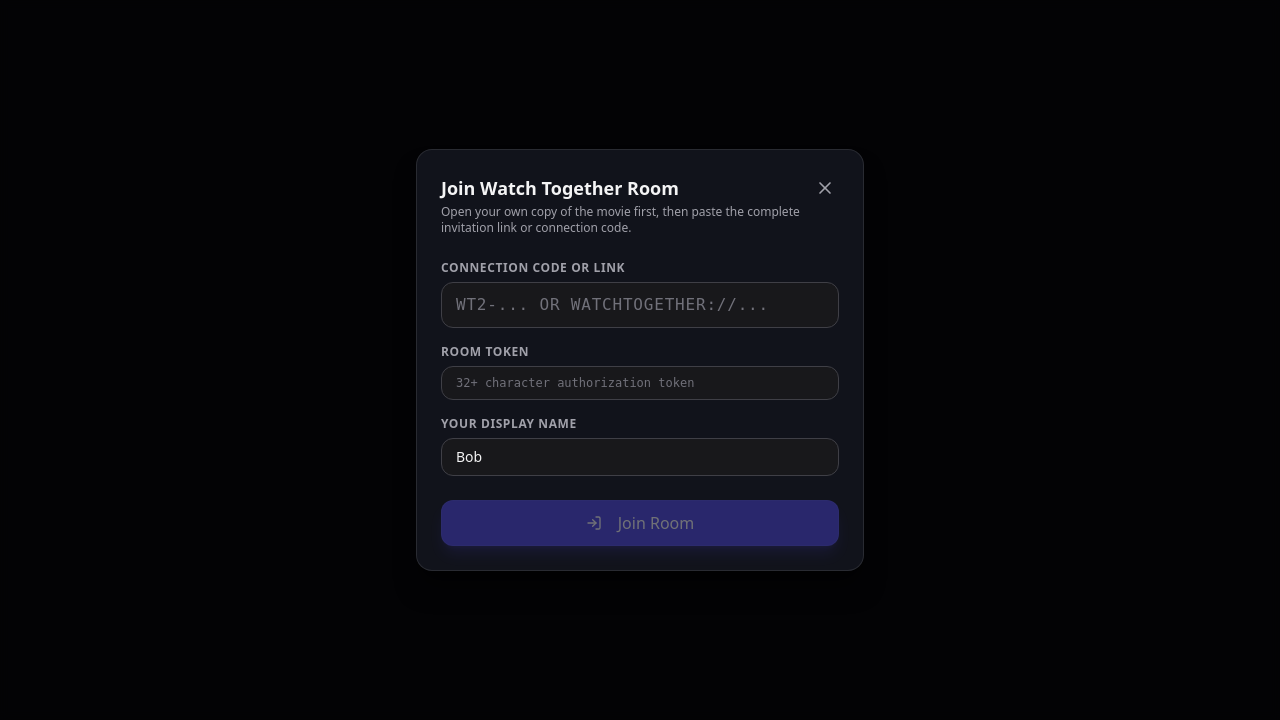
Test: Room Collaboration UI Modals › JoinRoomModal › rejects IP-based invitations from older versions with a clear message
Step 1. Type "WT1-eyJyb29tQ29kZSI6IksifQ" into the field with test id "room-code-input" → (640, 305), box [441,282,839,328]
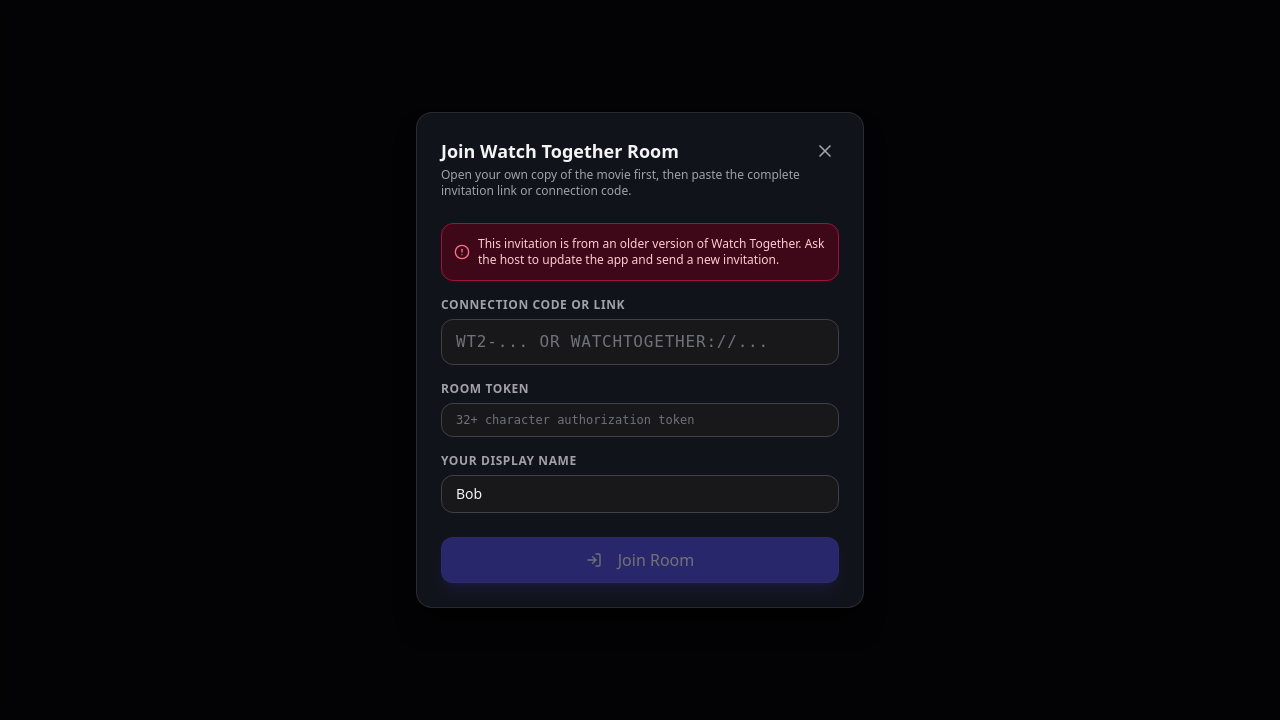
Expected: the element with test id "join-error-banner" shows "older version", [478,235,824,268]
